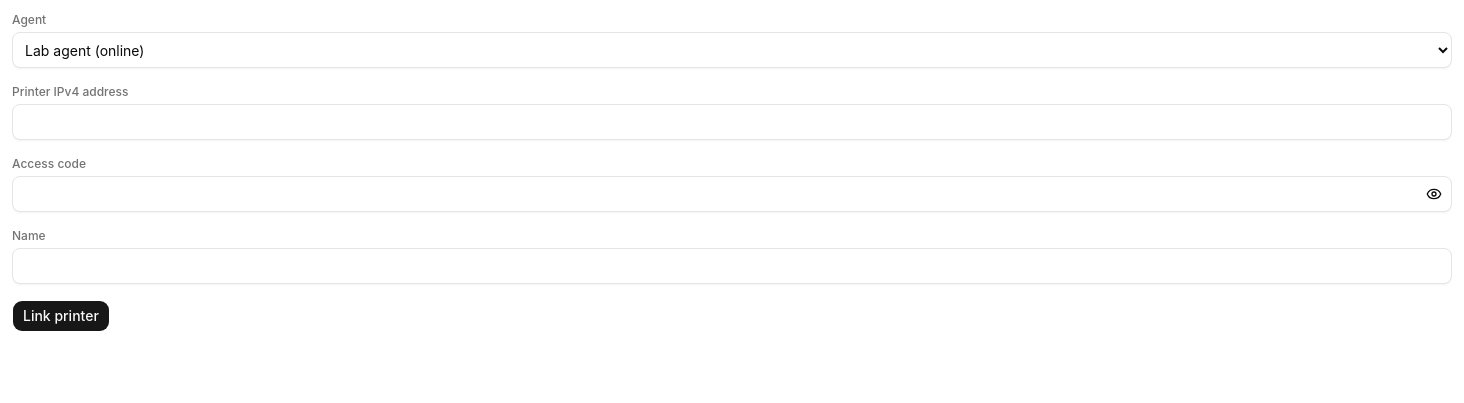
LinkPrinterMachineForm › shows the error code when the printer rejects the access code
The image size is (1464, 403).
Type "192.0.2.10" into the field labelled "Printer IPv4 address". click: (732, 122)
box: [12,104,1452,140]
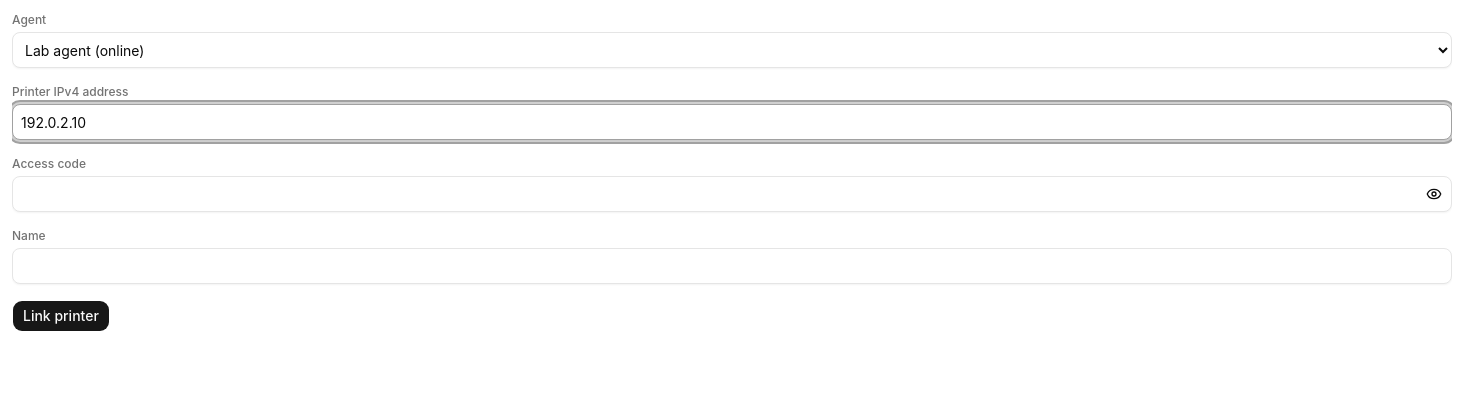
Type "SECRET-LINK-CODE" into the password field labelled "Access code". click: (732, 194)
box: [12,176,1452,212]
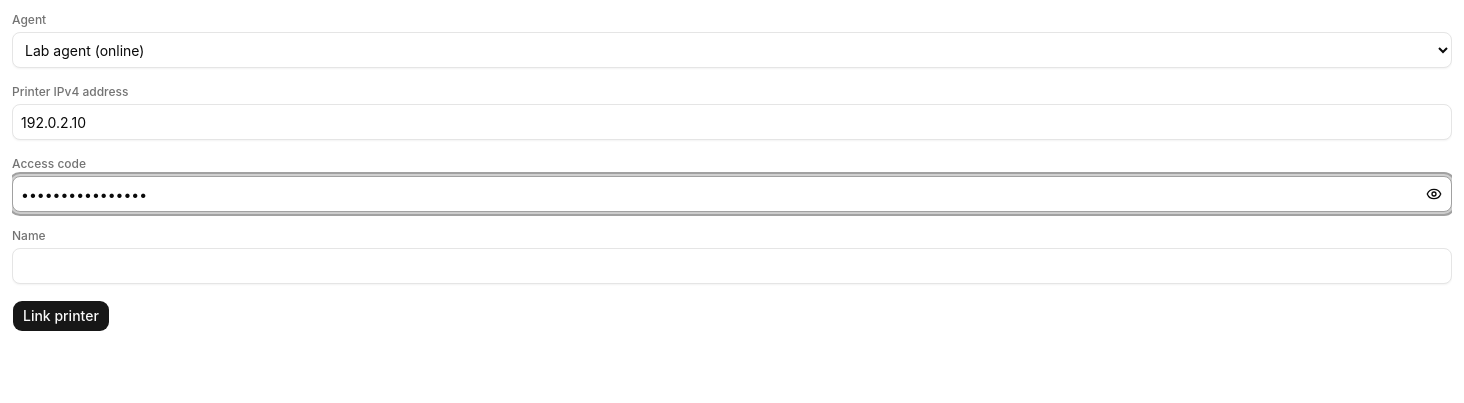
Click the button "Link printer". click: (61, 316)
box: [12,300,110,332]
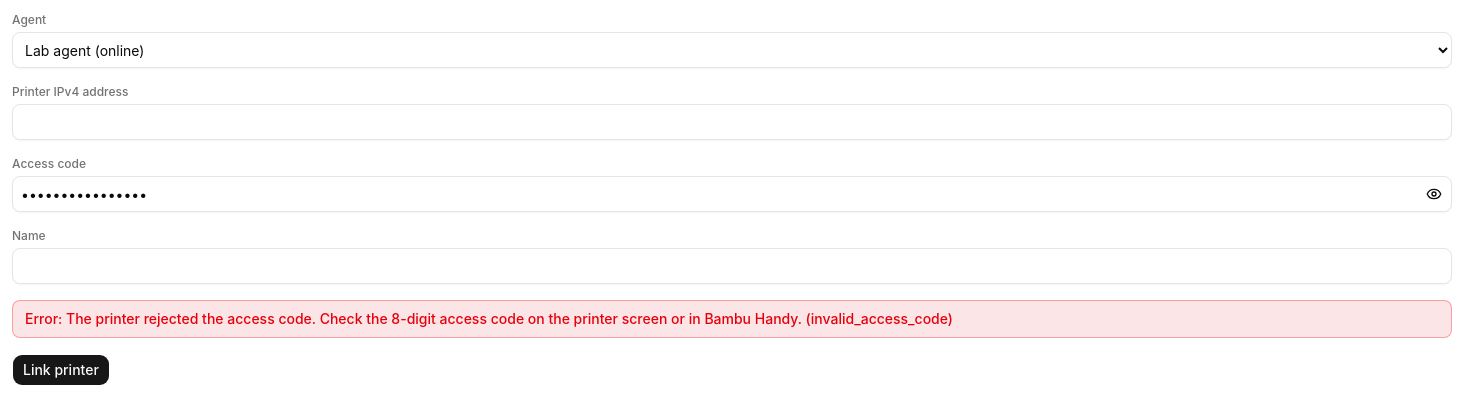
Expected: the button "Link printer" is enabled, [12,354,110,386]
Expected: the text "Error: The printer rejected the access code. Check the 8-digit access code on the printer screen or in Bambu Handy. (inv" is shown, [25,310,953,327]
